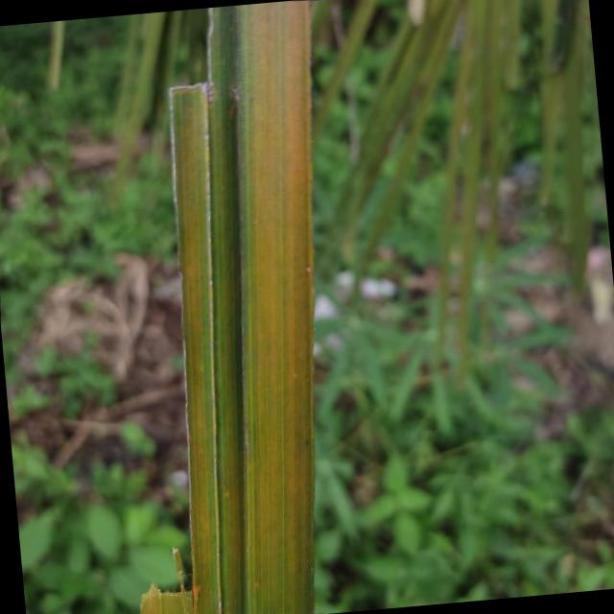Megnesium: (164, 0, 316, 614)
